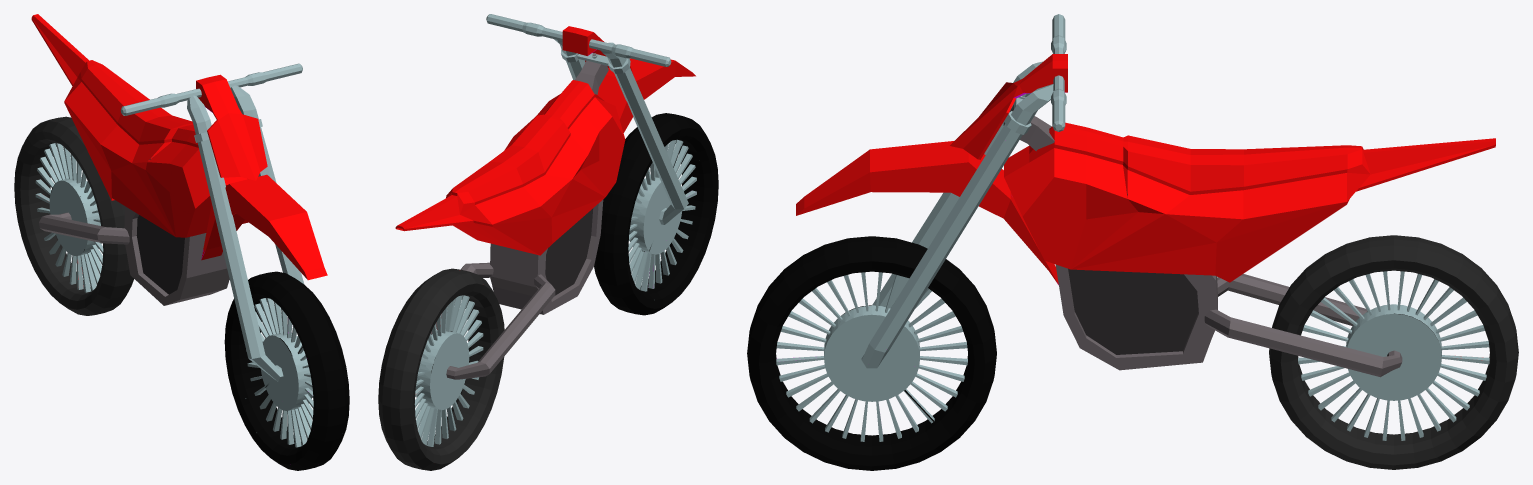
Rendered from bike.fbx.
The picture shows the model from 3 angles, left to right: view 1: azimuth 30°, elevation 25°; view 2: azimuth 150°, elevation 25°; view 3: azimuth 270°, elevation 25°; orthographic projection. The views are drawn at different scales.
Visible parts, largest first — view 1: Body, Handle, F_Wheel, B_Wheel; view 2: Body, B_Wheel, F_Wheel, Handle; view 3: Body, B_Wheel, F_Wheel, Handle.
Part boxes in pixels (x1,y1,x2,y2): Body: [31, 14, 248, 305]; Handle: [120, 63, 327, 381]; F_Wheel: [224, 271, 349, 470]; B_Wheel: [14, 116, 133, 315]; Body: [395, 53, 625, 379]; B_Wheel: [378, 268, 504, 470]; F_Wheel: [594, 113, 718, 315]; Handle: [486, 14, 695, 224]; Body: [1003, 104, 1495, 377]; B_Wheel: [1269, 235, 1518, 469]; F_Wheel: [747, 236, 996, 470]; Handle: [796, 14, 1067, 368].
Size of the model in its own units: 118 by 206 by 354.
Materials: 4 (4 with a texture image).
